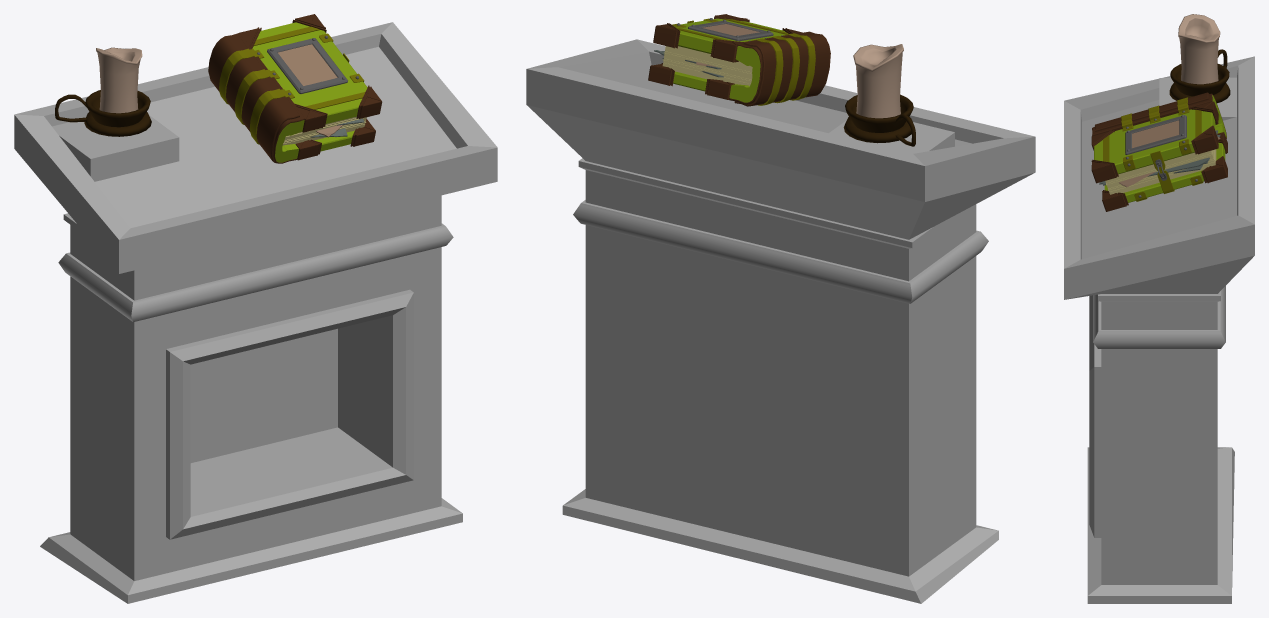
Rendered from standd.fbx.
The picture shows the model from 3 angles, left to right: view 1: azimuth 30°, elevation 25°; view 2: azimuth 150°, elevation 25°; view 3: azimuth 270°, elevation 25°; orthographic projection. The views are drawn at different scales.
Visible parts, largest first — view 1: stand, whole_book1, little_candle_V2:candle1; view 2: stand, whole_book1, little_candle_V2:candle1; view 3: stand, whole_book1, little_candle_V2:candle1.
Boxes of the visible parts, x1,y1,x2,y2 form: stand: (14,22,497,603); whole_book1: (208,14,382,163); little_candle_V2:candle1: (55,47,151,136); stand: (526,39,1035,603); whole_book1: (648,14,830,106); little_candle_V2:candle1: (843,44,915,146); stand: (1064,56,1254,603); whole_book1: (1091,92,1227,211); little_candle_V2:candle1: (1169,14,1230,103).
Bounding box in the file's own units: 13.75 × 17.37 × 6.6.
